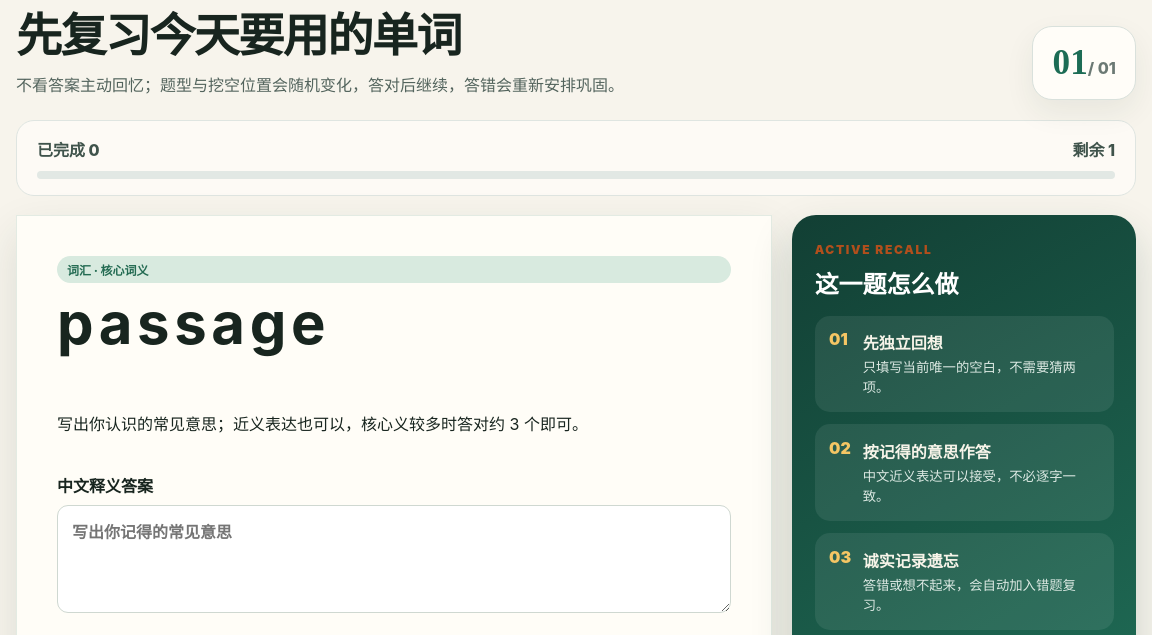
Test: DailyVocabularySession › adds a meaning review only when an old word meaning is wrong
Type "道路" into the text box labelled "中文释义答案" at {"x": 394, "y": 559}, box [57, 505, 731, 613]
(page scrolled)
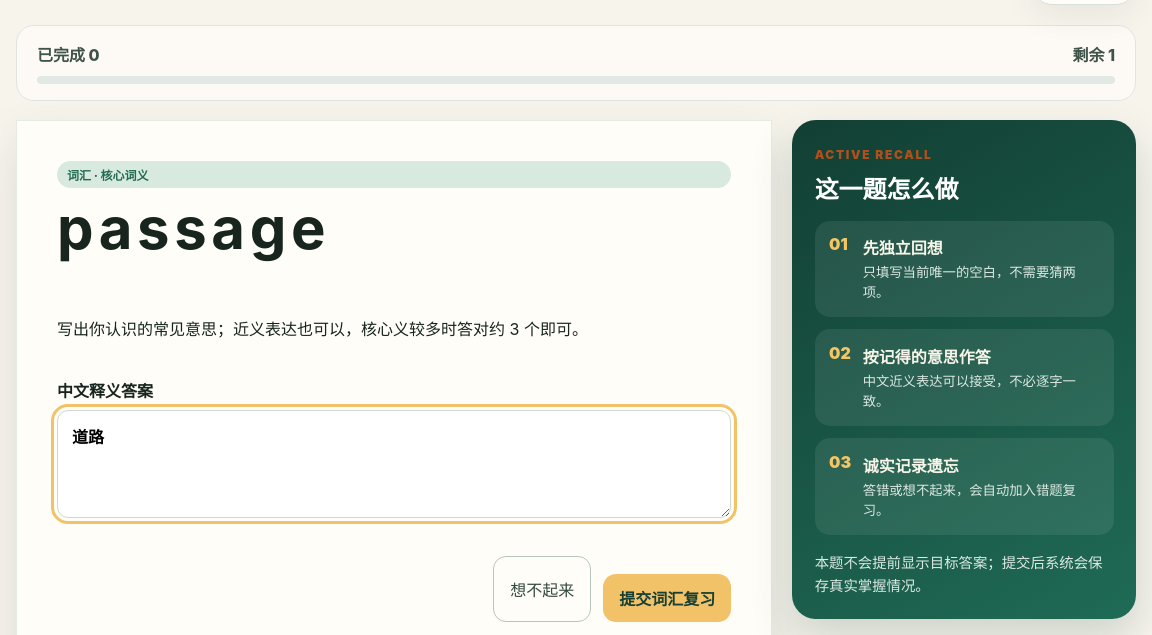
Click the button "提交词汇复习" at {"x": 667, "y": 598}, box [603, 574, 731, 622]
(page scrolled)
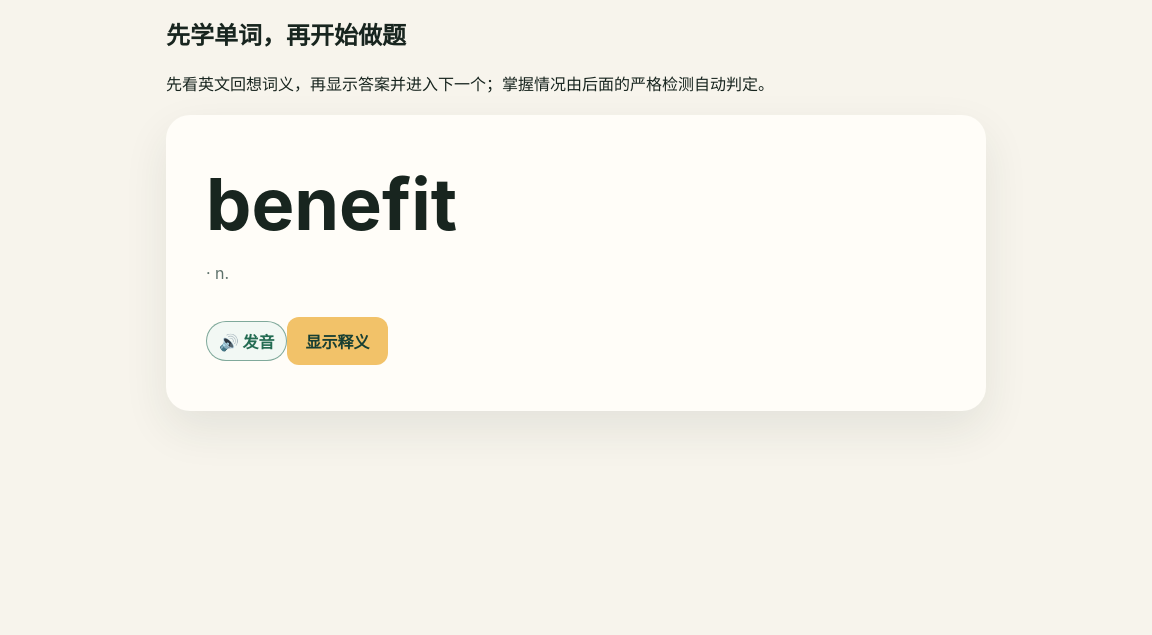
Result: the heading "benefit" is shown at [206, 160, 457, 247]
